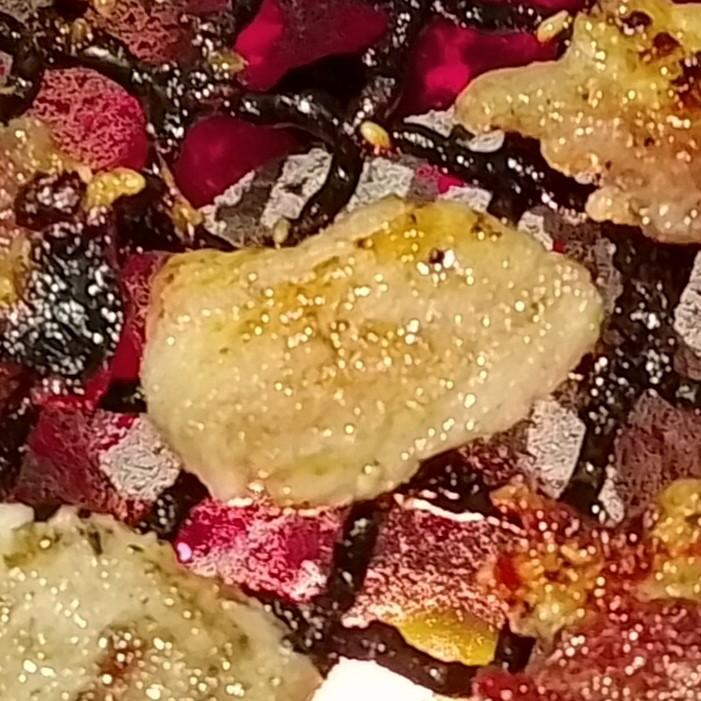Overcooked: (0, 223, 127, 393)
Well-Cooked: (141, 200, 605, 511), (0, 506, 318, 700), (453, 0, 700, 240), (476, 505, 609, 660), (541, 579, 700, 689)
